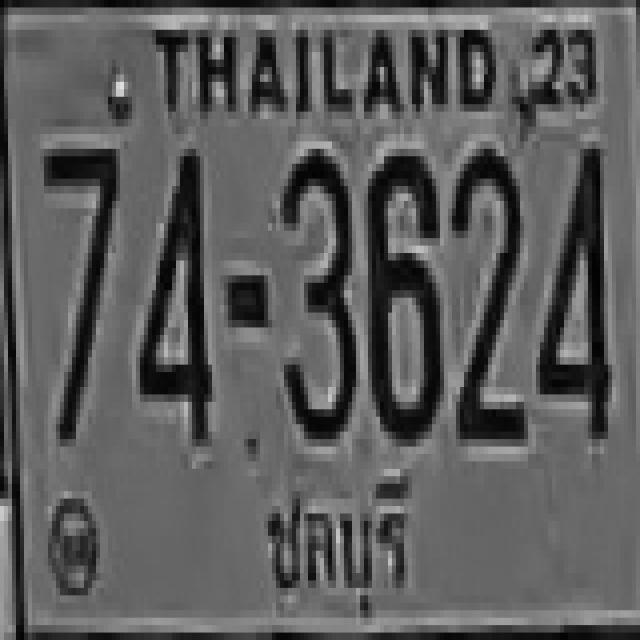2: (450, 142, 522, 432)
3: (280, 145, 352, 435)
4: (136, 141, 208, 439), (536, 142, 608, 432)
6: (364, 145, 440, 435)
7: (40, 141, 116, 439)
Chonburi: (262, 468, 418, 624)
